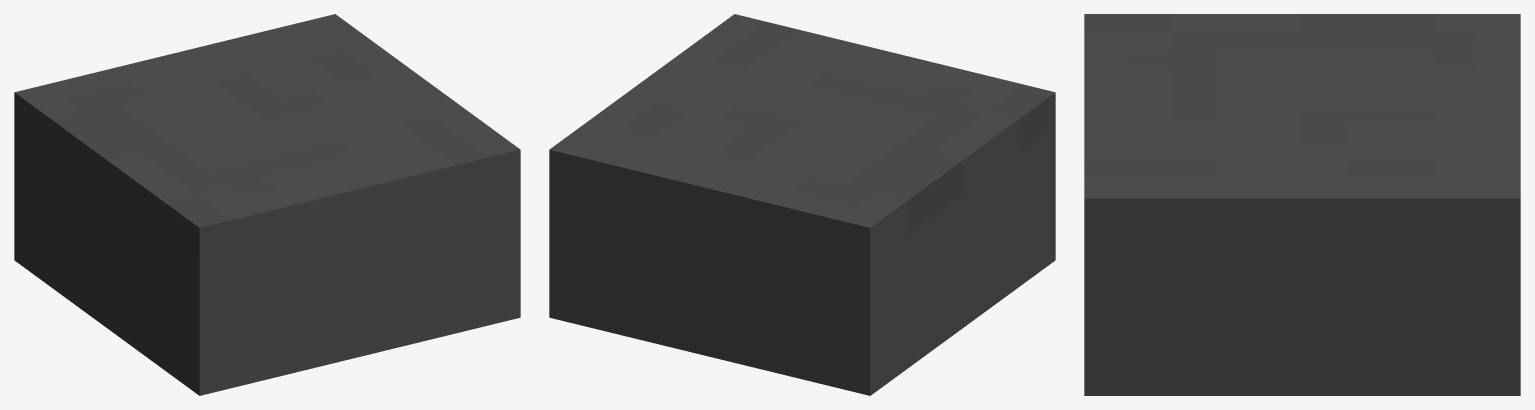
File: Stein_Mitte-2.0.obj
3 views of the same model, side by side, from view 1: azimuth 30°, elevation 25°; view 2: azimuth 150°, elevation 25°; view 3: azimuth 270°, elevation 25° (orthographic). The views are drawn at different scales.
Bounding box in the file's own units: 1 × 0.5 × 1.
Materials: 1 (1 with a texture image).
